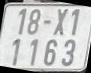-: (44, 20, 52, 24)
1: (29, 39, 40, 65), (18, 8, 28, 36), (71, 9, 81, 36), (12, 39, 22, 66)
3: (62, 40, 76, 66)
6: (44, 38, 57, 65)
8: (28, 9, 41, 35)
X: (54, 9, 68, 36)
